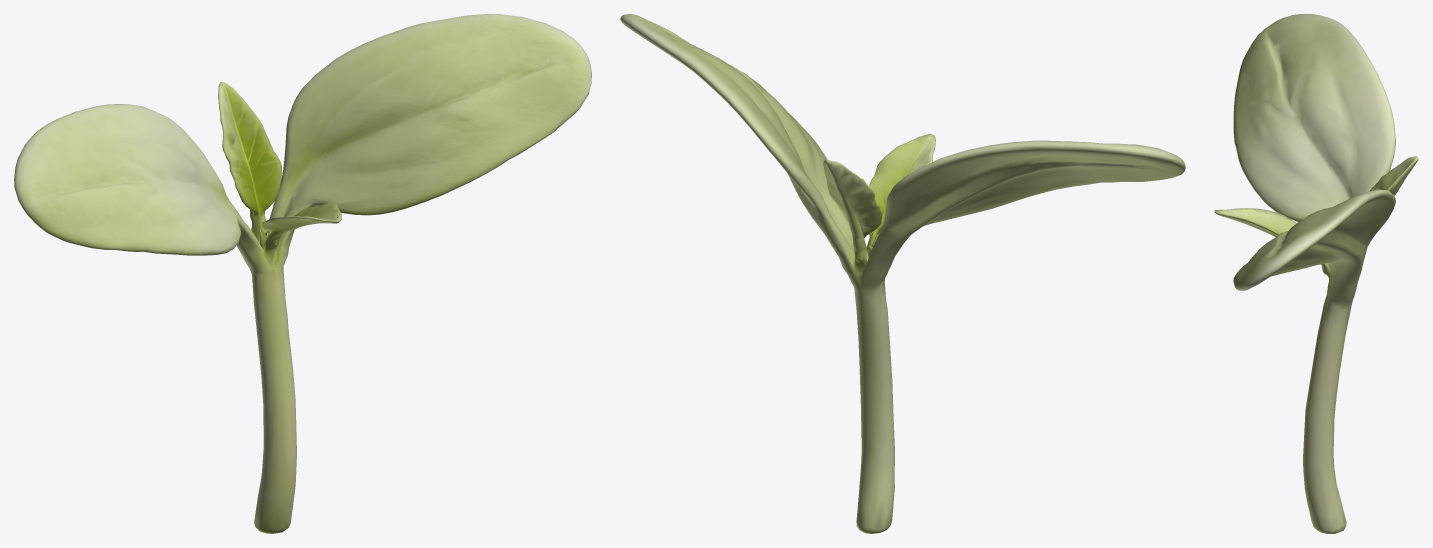
Rendered from seedling.glb.
3 views of the same model, side by side, from view 1: azimuth 30°, elevation 25°; view 2: azimuth 150°, elevation 25°; view 3: azimuth 270°, elevation 25° (orthographic). The views are drawn at different scales.
Visible parts, largest first — view 1: tripo_node_a217e2c8-347c-48f5-87f9-9e849e13957b; view 2: tripo_node_a217e2c8-347c-48f5-87f9-9e849e13957b; view 3: tripo_node_a217e2c8-347c-48f5-87f9-9e849e13957b.
Boxes of the visible parts, bbox=[...] form: tripo_node_a217e2c8-347c-48f5-87f9-9e849e13957b: bbox=[14, 14, 591, 533]; tripo_node_a217e2c8-347c-48f5-87f9-9e849e13957b: bbox=[620, 14, 1185, 533]; tripo_node_a217e2c8-347c-48f5-87f9-9e849e13957b: bbox=[1214, 14, 1418, 533].
Bounding box in the file's own units: 1 × 0.7684 × 0.3447.
1 material, 1 textured.
